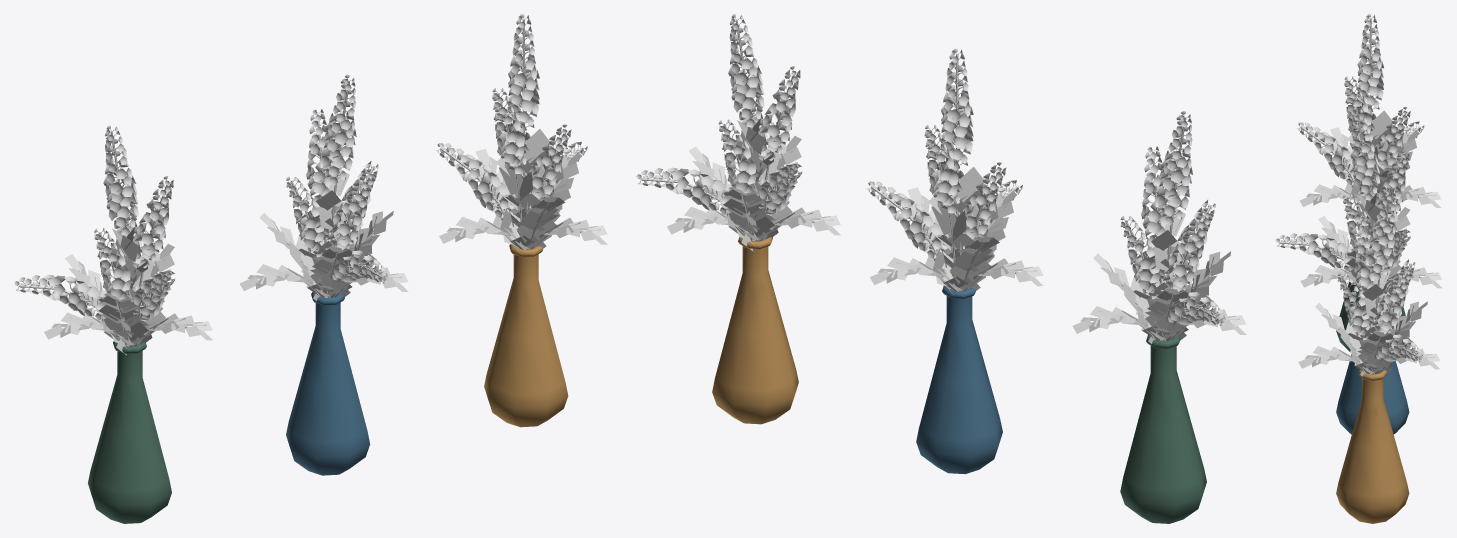
File: a_com_house_a01_plant01.gltf
The picture shows the model from 3 angles, left to right: view 1: azimuth 30°, elevation 25°; view 2: azimuth 150°, elevation 25°; view 3: azimuth 270°, elevation 25°; orthographic projection. The views are drawn at different scales.
Visible parts, largest first — view 1: um_a_com_house_a01_plant01_model_a_com_house_a01_plant01_mod (×4); view 2: um_a_com_house_a01_plant01_model_a_com_house_a01_plant01_mod (×4); view 3: um_a_com_house_a01_plant01_model_a_com_house_a01_plant01_mod (×4).
Boxes of the visible parts, left/top/right/bottom form: um_a_com_house_a01_plant01_model_a_com_house_a01_plant01_mod (×4): left=14, top=14, right=607, bottom=523; um_a_com_house_a01_plant01_model_a_com_house_a01_plant01_mod (×4): left=636, top=14, right=1246, bottom=523; um_a_com_house_a01_plant01_model_a_com_house_a01_plant01_mod (×4): left=1275, top=14, right=1442, bottom=523.
Bounding box in the file's own units: 1.45 × 0.9504 × 0.4352.
Materials: 4 (3 with a texture image).
